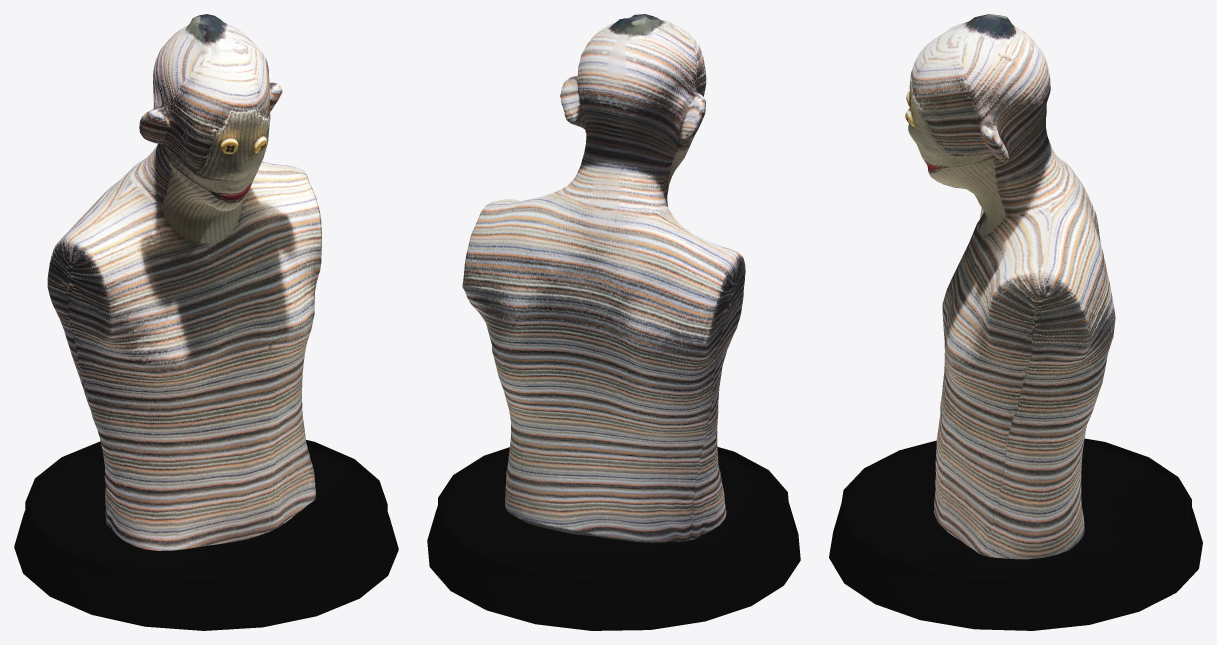
File: retolam.glb
3 renders of one model, left to right at view 1: azimuth 30°, elevation 25°; view 2: azimuth 150°, elevation 25°; view 3: azimuth 270°, elevation 25°, orthographic. The views are drawn at different scales.
Visible parts, largest first — view 1: Tulio Hermoso_TULIO_HERMOSO_0, TUILO_BASE_COLOR05_0; view 2: Tulio Hermoso_TULIO_HERMOSO_0, TUILO_BASE_COLOR05_0; view 3: Tulio Hermoso_TULIO_HERMOSO_0, TUILO_BASE_COLOR05_0.
Part boxes in pixels (x1,y1,x2,y2): Tulio Hermoso_TULIO_HERMOSO_0: (47, 14, 321, 550); TUILO_BASE_COLOR05_0: (14, 440, 398, 630); Tulio Hermoso_TULIO_HERMOSO_0: (462, 14, 745, 542); TUILO_BASE_COLOR05_0: (427, 447, 800, 630); Tulio Hermoso_TULIO_HERMOSO_0: (905, 14, 1115, 559); TUILO_BASE_COLOR05_0: (829, 438, 1202, 630).
Bounding box in the file's own units: 1.27 × 1.98 × 1.27.
2 materials, 1 textured.
